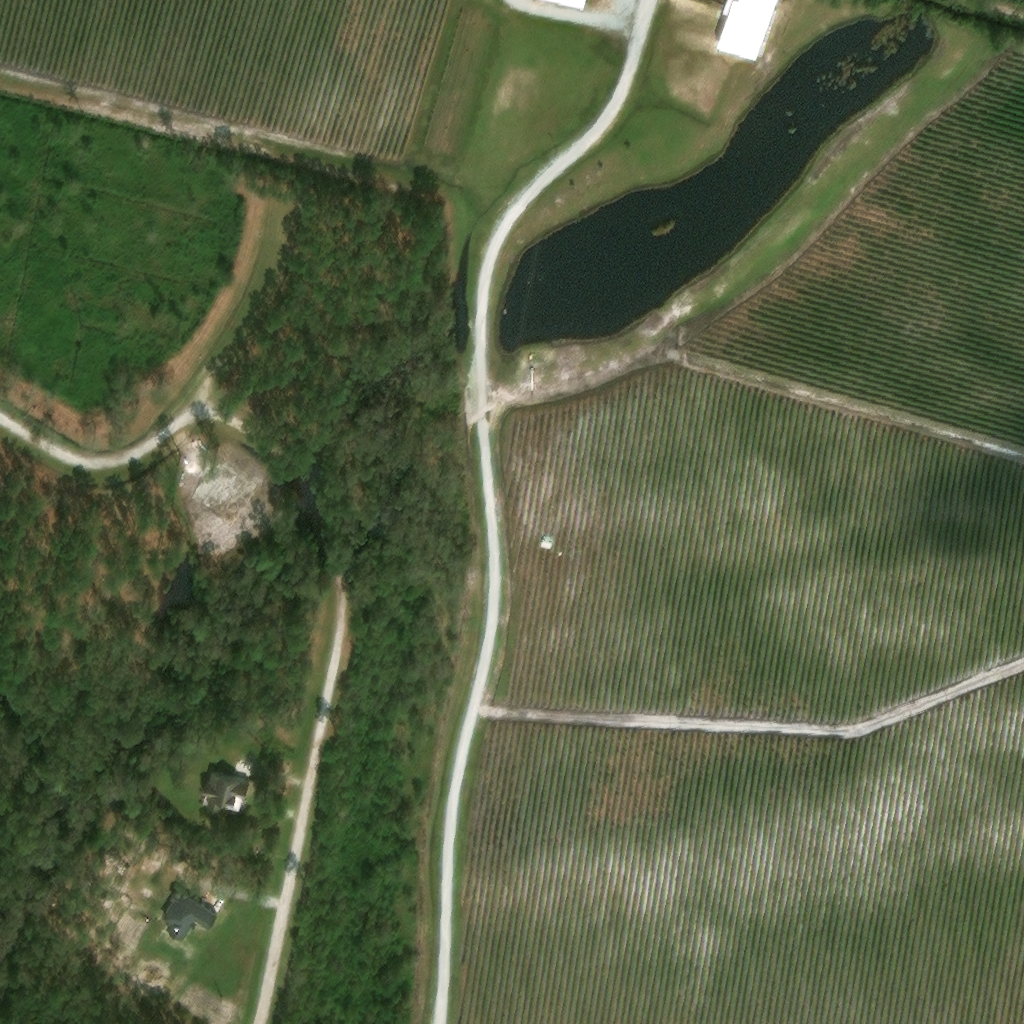no_damage: (711, 0, 779, 60), (161, 891, 218, 943), (199, 773, 247, 812), (551, 0, 594, 9), (526, 355, 538, 365)
